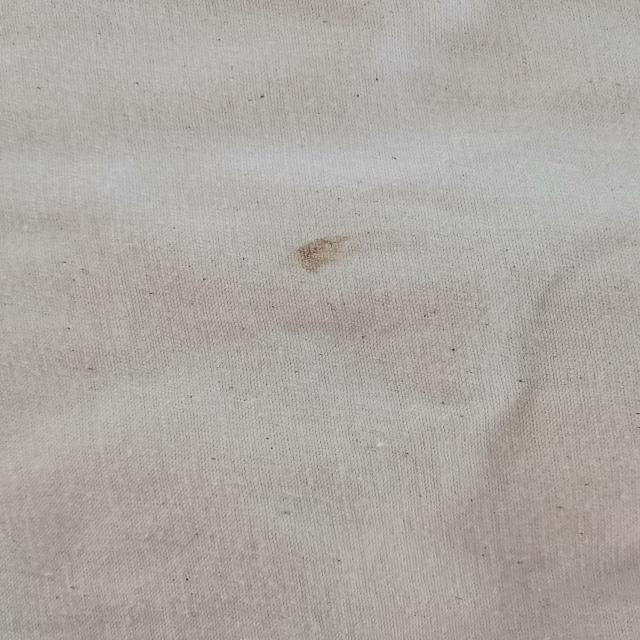taaaches: (264, 223, 362, 285)
